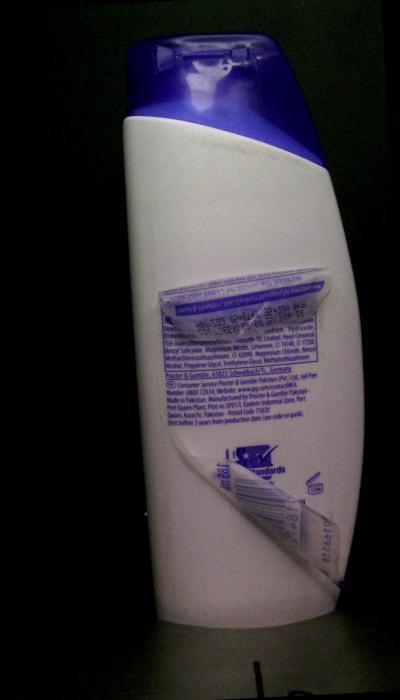adhesion_unacc: (174, 447, 348, 598), (156, 262, 336, 346)
